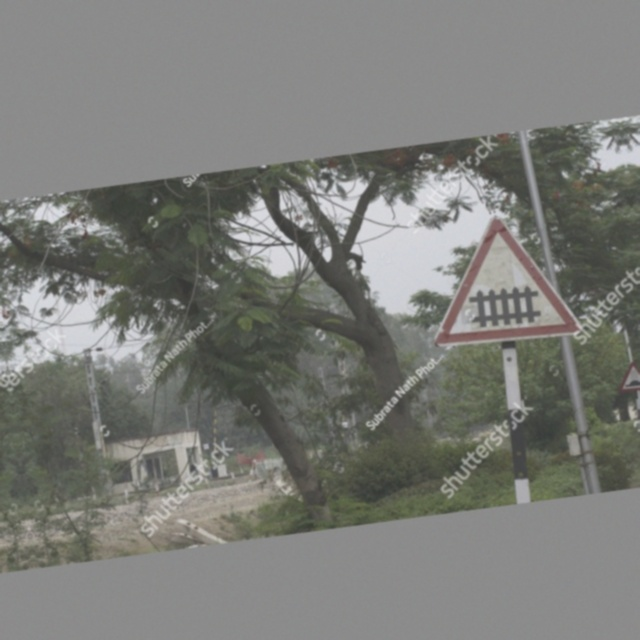Guarded_Level_Crossing: (423, 204, 579, 352)
